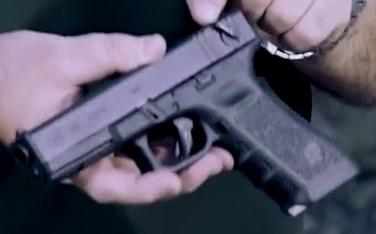gun: (1, 1, 376, 234)
